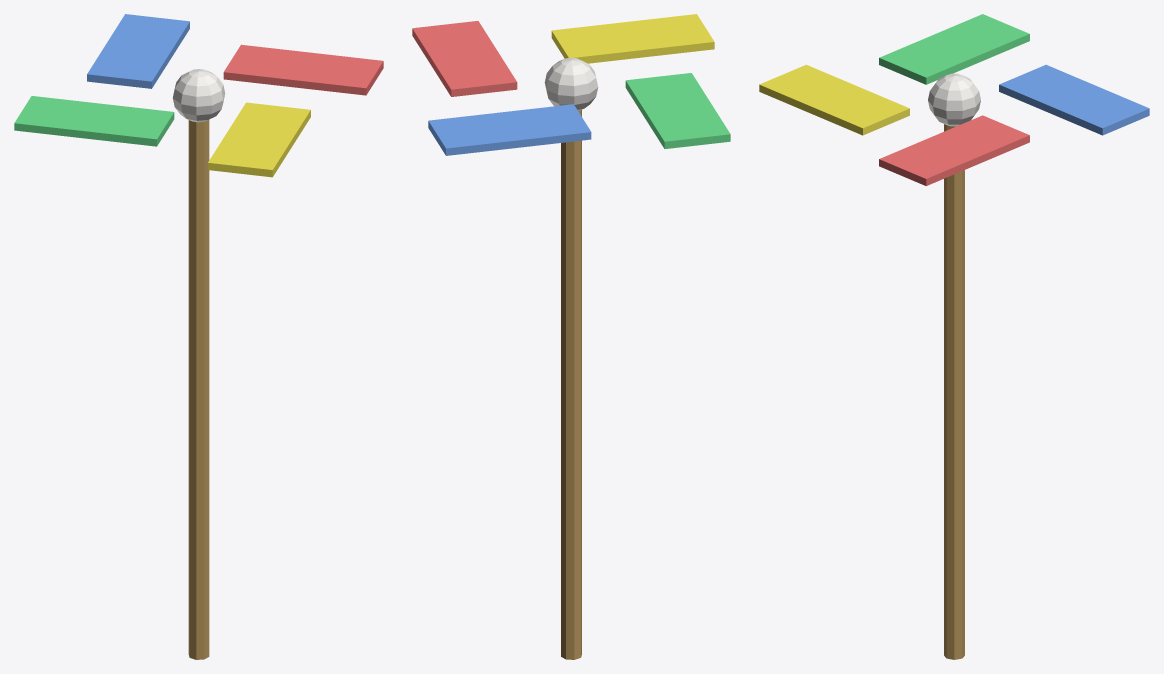
Rendered from pinwheel.fbx.
3 renders of one model, left to right at view 1: azimuth 30°, elevation 25°; view 2: azimuth 150°, elevation 25°; view 3: azimuth 270°, elevation 25°, orthographic. The views are drawn at different scales.
Parts seen in each view (by area): view 1: PW_Stick, PW_Blade0, PW_Blade2, PW_Blade3, PW_Blade1, PW_Hub; view 2: PW_Stick, PW_Blade1, PW_Blade3, PW_Blade0, PW_Blade2, PW_Hub; view 3: PW_Stick, PW_Blade0, PW_Blade1, PW_Blade3, PW_Blade2, PW_Hub.
Boxes of the visible parts, x1,y1,x2,y2 form: PW_Stick: [188, 120, 209, 659]; PW_Blade0: [223, 44, 383, 95]; PW_Blade2: [14, 96, 174, 146]; PW_Blade3: [208, 102, 310, 177]; PW_Blade1: [87, 14, 189, 88]; PW_Hub: [172, 69, 225, 122]; PW_Stick: [561, 110, 581, 659]; PW_Blade1: [428, 104, 591, 155]; PW_Blade3: [551, 14, 714, 63]; PW_Blade0: [412, 21, 517, 96]; PW_Blade2: [625, 73, 730, 148]; PW_Hub: [544, 57, 598, 110]; PW_Stick: [944, 124, 964, 659]; PW_Blade0: [879, 115, 1029, 185]; PW_Blade1: [999, 64, 1149, 135]; PW_Blade3: [759, 64, 909, 135]; PW_Blade2: [879, 14, 1029, 84]; PW_Hub: [928, 73, 980, 126].
Bounding box in the file's own units: 58.63 × 96 × 58.63.
